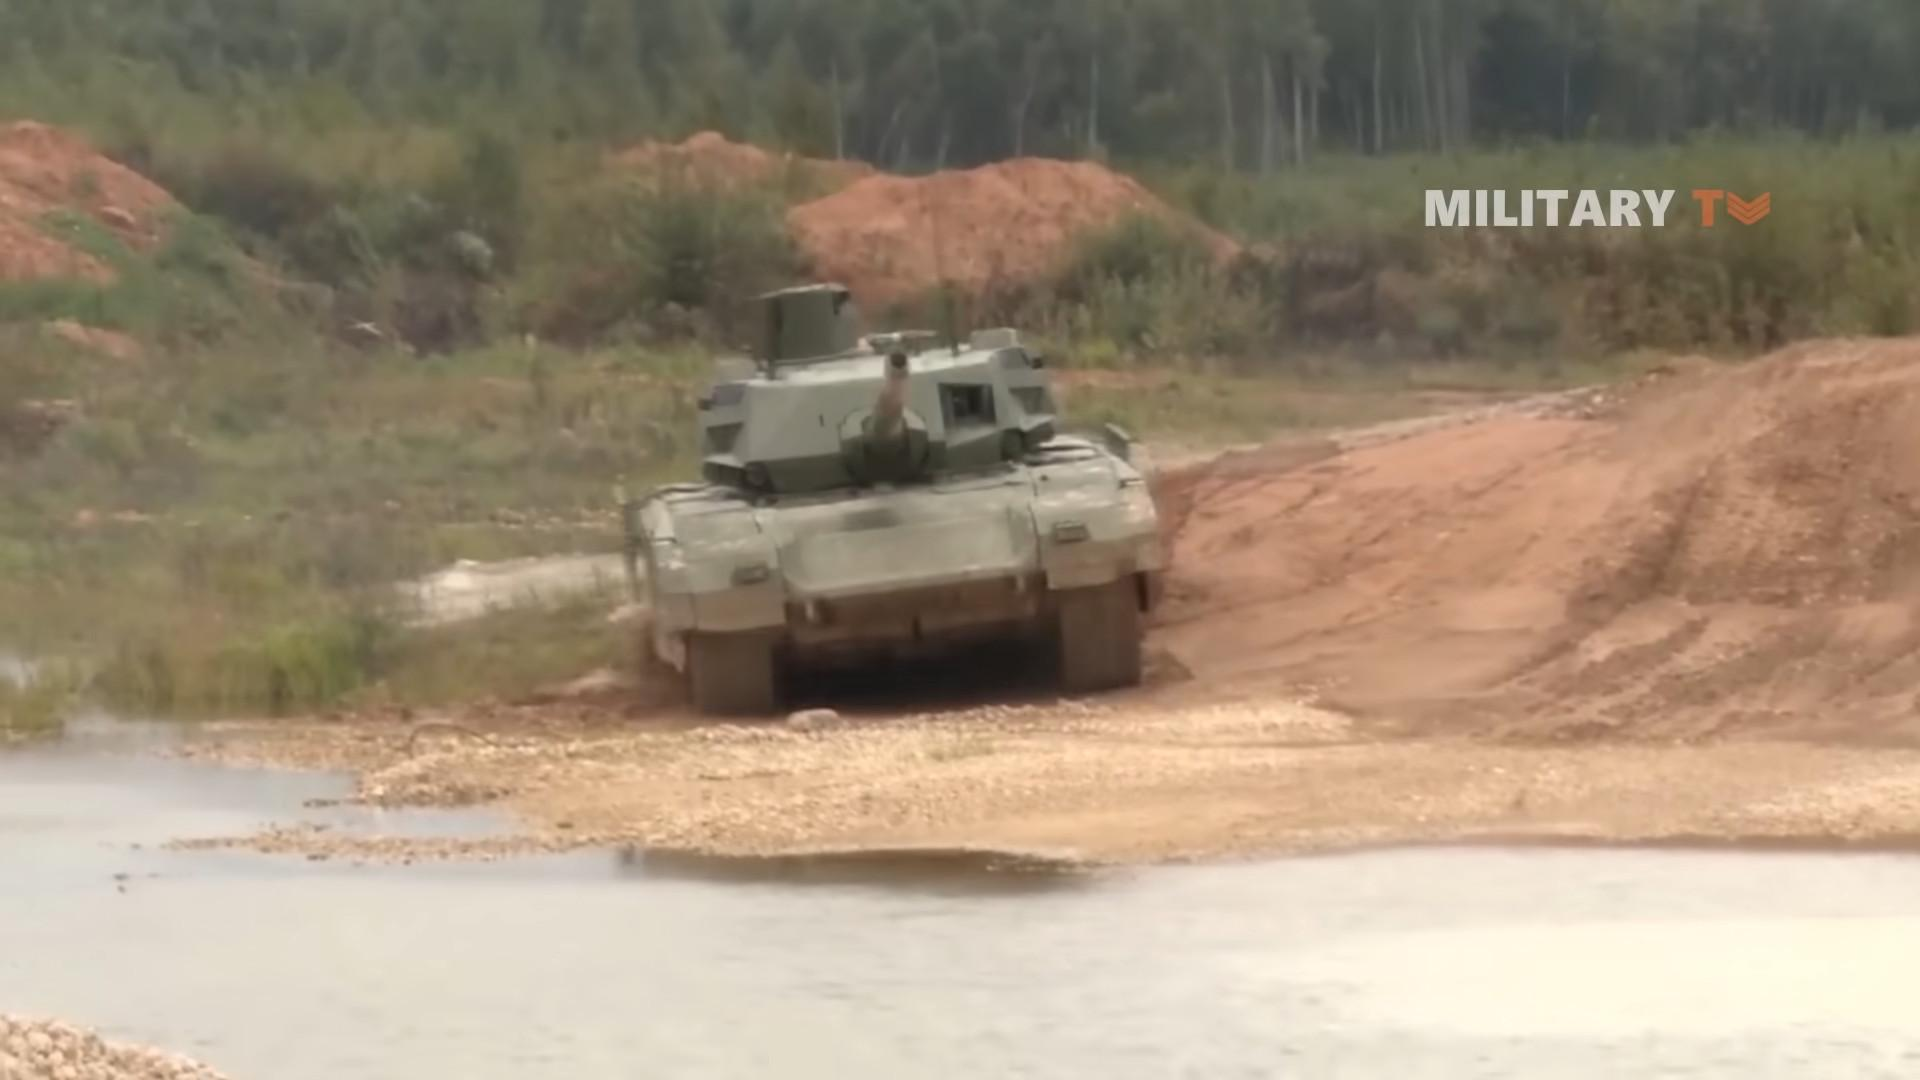tank: (620, 283, 1167, 717)
